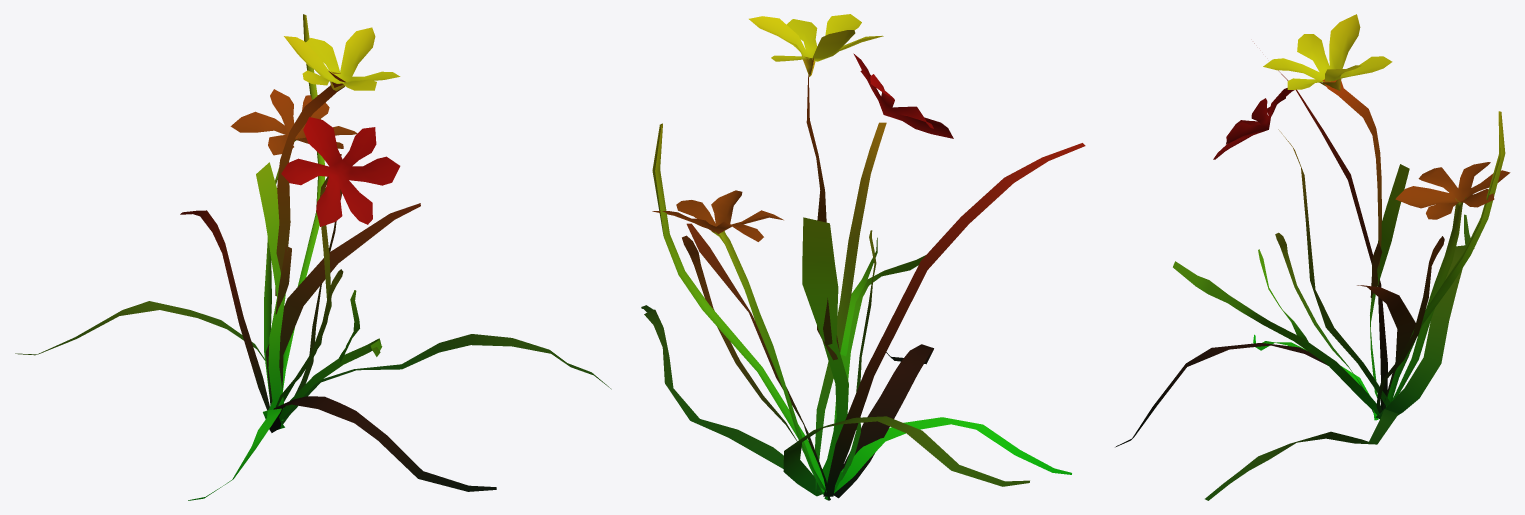
Rendered from SM_OW_Flower_b_LOD1.fbx.
3 views of the same model, side by side, from view 1: azimuth 30°, elevation 25°; view 2: azimuth 150°, elevation 25°; view 3: azimuth 270°, elevation 25° (orthographic). The views are drawn at different scales.
Visible parts, largest first — view 1: SM_OW_Flower_b_LOD1; view 2: SM_OW_Flower_b_LOD1; view 3: SM_OW_Flower_b_LOD1.
Boxes of the visible parts, x1,y1,x2,y2 form: SM_OW_Flower_b_LOD1: (15,14,611,500); SM_OW_Flower_b_LOD1: (641,14,1085,500); SM_OW_Flower_b_LOD1: (1115,14,1510,500).
Bounding box in the file's own units: 0.2166 × 0.1786 × 0.1579.
